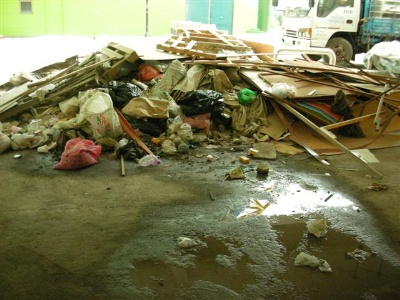plastic_bag: (157, 62, 236, 108), (81, 94, 123, 137), (58, 138, 101, 170), (363, 41, 400, 74), (123, 95, 172, 117), (235, 106, 269, 130), (236, 88, 256, 105)
